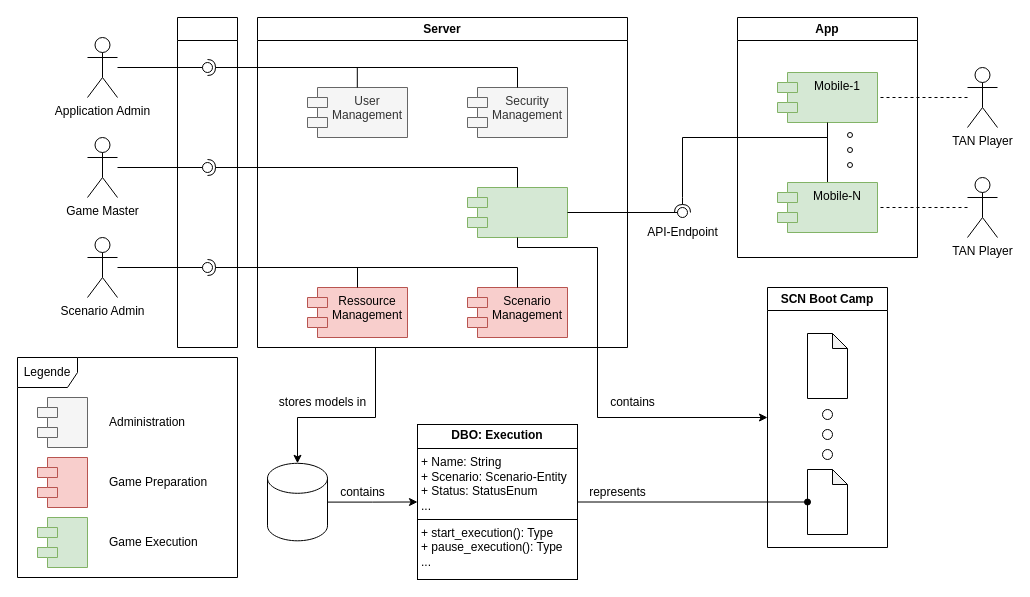
The diagram is 1030 pixels wide and 597 high, and some of its shapes have lost their labels. The centre of each missing label's shape, as x and y in pixels:
"DB" goes at point (297, 501).
"Exec. 1" goes at point (827, 365).
"Exec. N" goes at point (827, 501).
"Execution Management" goes at point (517, 212).
"WEB API" goes at point (207, 182).
